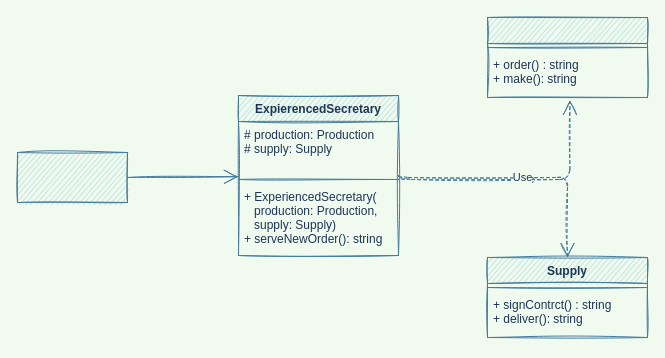
Image size: 665x358. Some labels were removed from this diagram. The box of each missing label's shape, as (x1, y1, x2, y2) in pixels:
Client: (16, 152, 128, 202)
Production: (486, 16, 648, 98)
